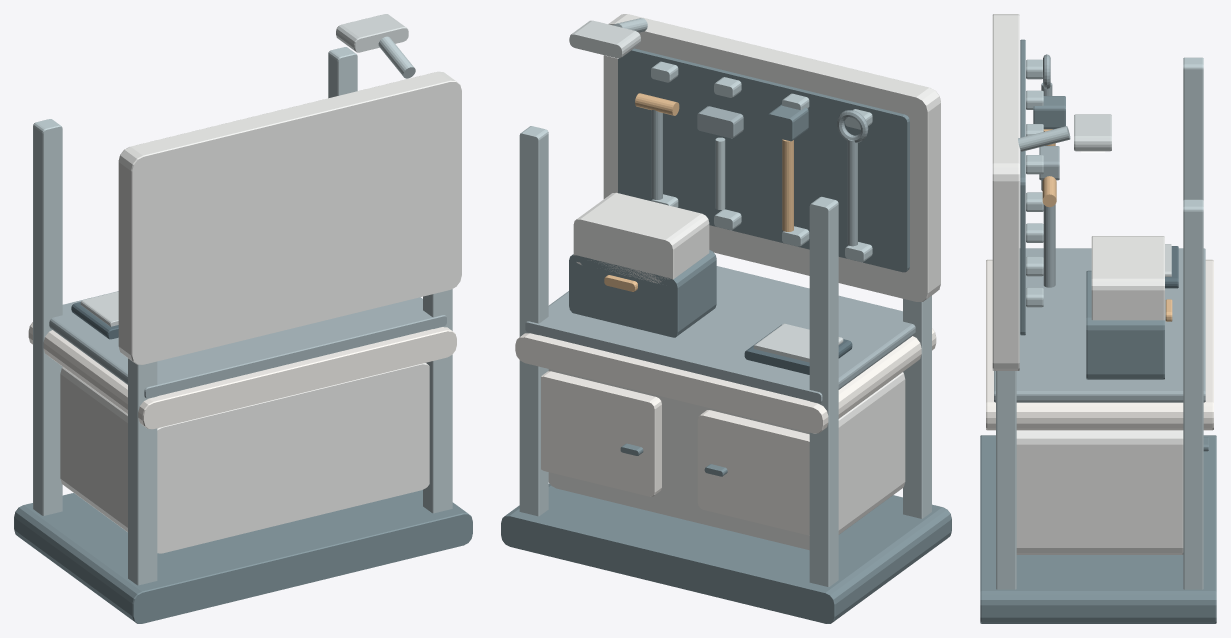
Rendered from eva_tool_station.glb.
3 views of the same model, side by side, from view 1: azimuth 30°, elevation 25°; view 2: azimuth 150°, elevation 25°; view 3: azimuth 270°, elevation 25° (orthographic).
Parts seen in each view (by area): view 1: Fixed__shell, Fixed__graphite, Fixed__aluminium, Fixed__ivory, Fixed__steel, Fixed__silver, Fixed__recess; view 2: Fixed__graphite, Fixed__shell, Fixed__aluminium, Fixed__steel, Fixed__ivory, cabinet_door_right__ivory, cabinet_door_left__ivory, case_lid__shell, Fixed__silver, Fixed__orange, Fixed__recess; view 3: Fixed__shell, Fixed__graphite, Fixed__aluminium, Fixed__steel, Fixed__ivory, case_lid__shell, Fixed__silver, Fixed__orange, Fixed__recess.
Part boxes in pixels (box(x1,y1,x2,y2)): Fixed__shell: box(60, 71, 461, 553); Fixed__graphite: box(14, 490, 472, 623); Fixed__aluminium: box(33, 36, 452, 585); Fixed__ivory: box(28, 322, 456, 429); Fixed__steel: box(49, 291, 446, 398); Fixed__silver: box(80, 14, 408, 326); Fixed__recess: box(71, 302, 118, 339); Fixed__graphite: box(501, 48, 951, 623); Fixed__shell: box(548, 14, 940, 550); Fixed__aluminium: box(519, 18, 931, 586); Fixed__steel: box(525, 106, 915, 403); Fixed__ivory: box(515, 328, 936, 433); cabinet_door_right__ivory: box(541, 371, 661, 496); cabinet_door_left__ivory: box(697, 410, 809, 535); case_lid__shell: box(573, 192, 709, 283); Fixed__silver: box(569, 20, 843, 362); Fixed__orange: box(604, 93, 793, 291); Fixed__recess: box(744, 324, 852, 374); Fixed__shell: box(992, 14, 1183, 554); Fixed__graphite: box(980, 39, 1216, 623); Fixed__aluminium: box(996, 57, 1203, 589); Fixed__steel: box(994, 54, 1205, 402); Fixed__ivory: box(986, 259, 1213, 430); case_lid__shell: box(1091, 236, 1164, 320); Fixed__silver: box(1074, 114, 1171, 276); Fixed__orange: box(1042, 129, 1172, 321); Fixed__recess: box(1165, 246, 1178, 288).
Size of the model in its own units: 1.43 by 1.95 by 0.87.
